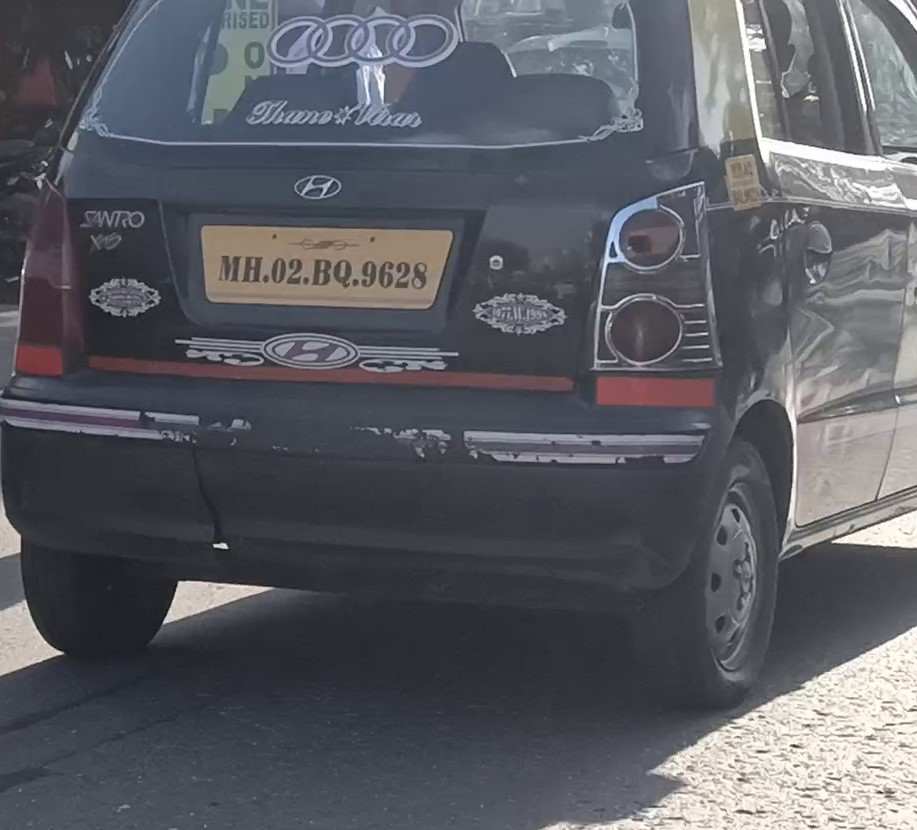MH02BQ9628: (198, 223, 452, 308)
